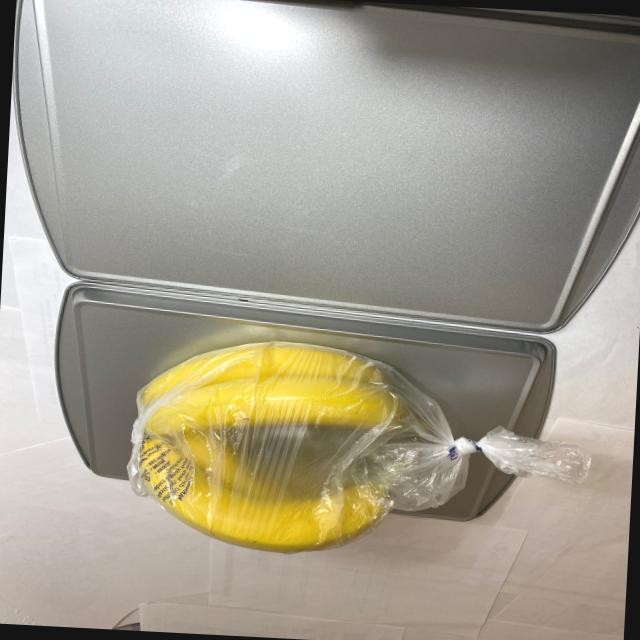banana: (94, 328, 445, 566)
